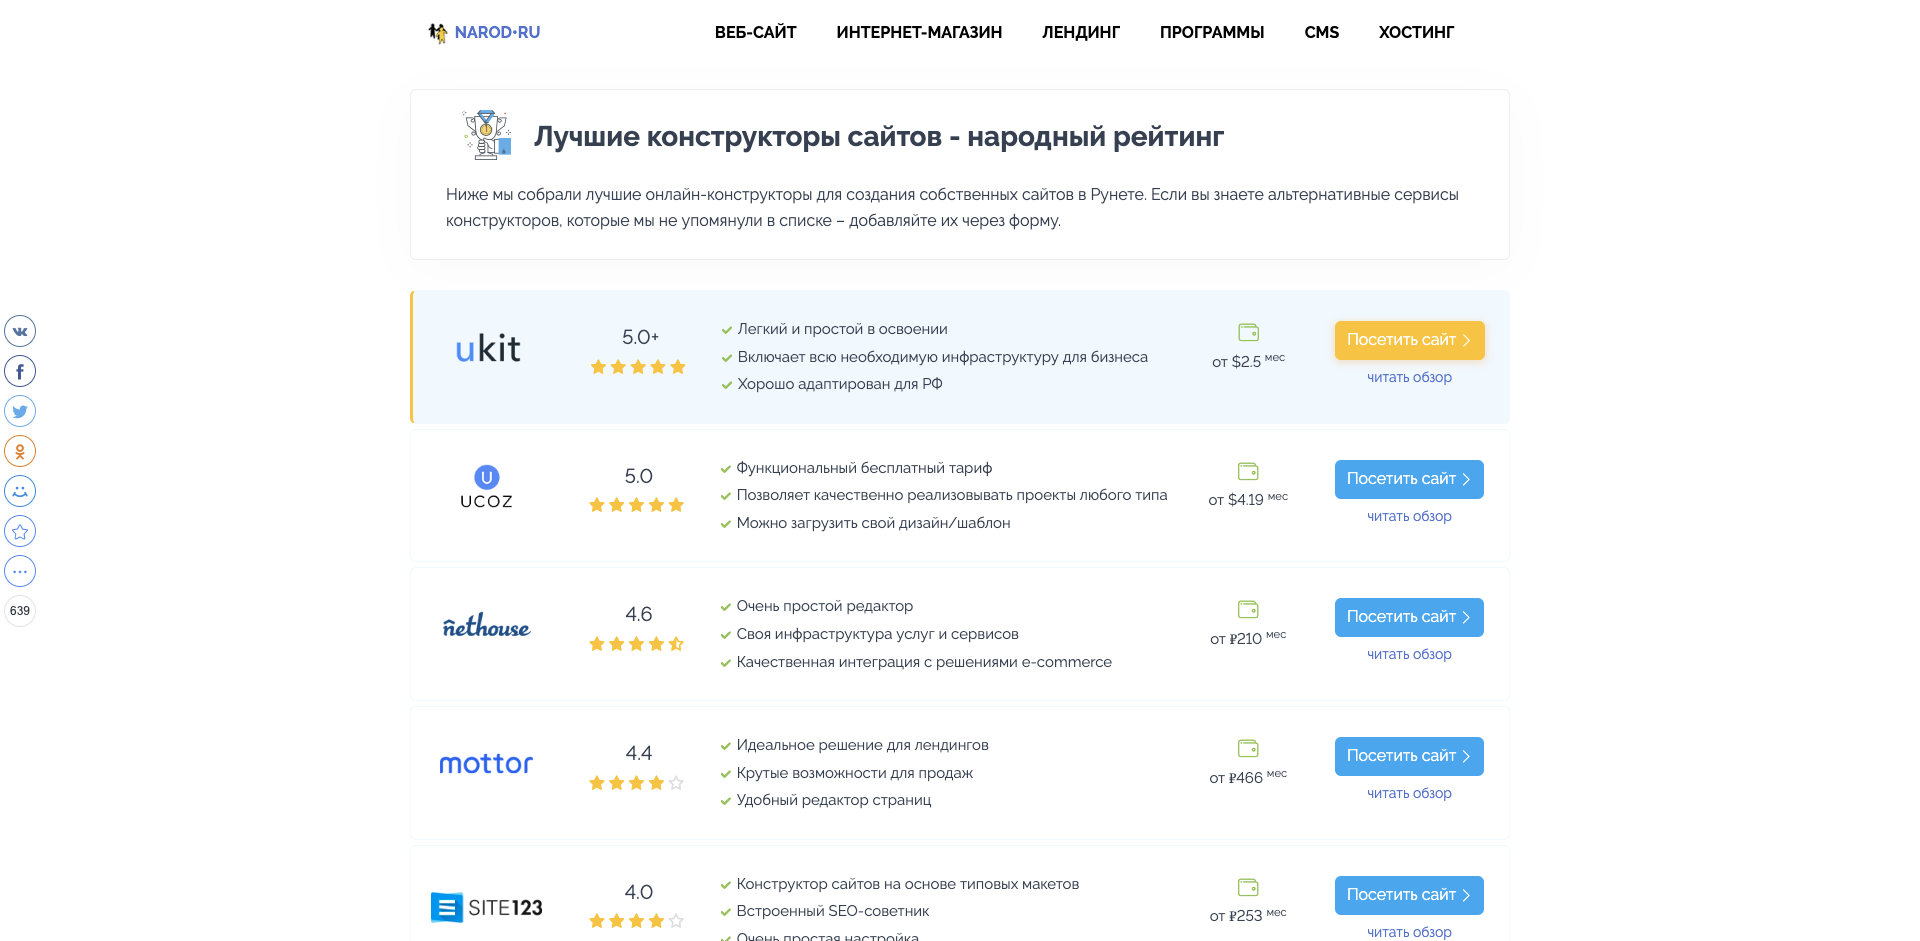button: (1335, 321, 1484, 360), (1335, 459, 1484, 499), (1335, 598, 1484, 637), (1335, 738, 1484, 776), (1335, 876, 1484, 914)
link: (836, 23, 1003, 42), (1335, 330, 1484, 349), (1335, 885, 1484, 904), (1335, 469, 1484, 488), (1335, 608, 1484, 626), (1335, 746, 1484, 765), (431, 752, 542, 772), (425, 23, 540, 42), (431, 475, 542, 494), (431, 614, 542, 632), (431, 897, 542, 915), (433, 337, 544, 355), (1160, 23, 1265, 42), (715, 23, 797, 42), (1042, 23, 1120, 42), (1379, 23, 1455, 42), (1368, 369, 1452, 385), (1368, 507, 1452, 523), (1368, 647, 1452, 663), (1368, 785, 1452, 801), (1368, 924, 1452, 940), (4, 515, 36, 546), (1304, 23, 1340, 42)
